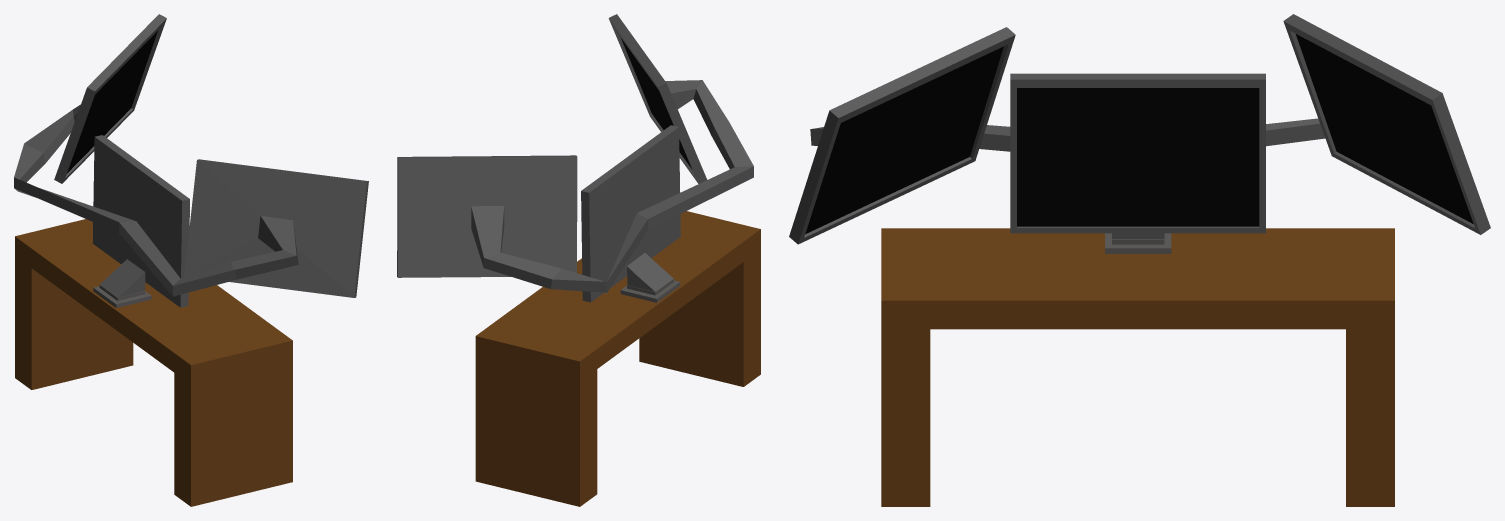
Rendered from pc TABLE.fbx.
The picture shows the model from 3 angles, left to right: view 1: azimuth 30°, elevation 25°; view 2: azimuth 150°, elevation 25°; view 3: azimuth 270°, elevation 25°; orthographic projection. The views are drawn at different scales.
Visible parts, largest first — view 1: Cube.001, screen, Cube.003, Cube; view 2: Cube.001, screen, Cube.003, Cube; view 3: screen, Cube.001, Cube.
Part boxes in pixels (x1,y1,x2,y2): Cube.001: (15,219,292,506); screen: (14,14,368,307); Cube.003: (100,259,145,297); Cube: (93,286,151,307); Cube.001: (475,211,760,506); screen: (397,14,753,302); Cube.003: (627,253,673,291); Cube: (620,280,680,302); screen: (789,14,1490,244); Cube.001: (881,228,1394,506); Cube: (1105,233,1171,253).
Size of the model in its own units: 351 by 588 by 820.
